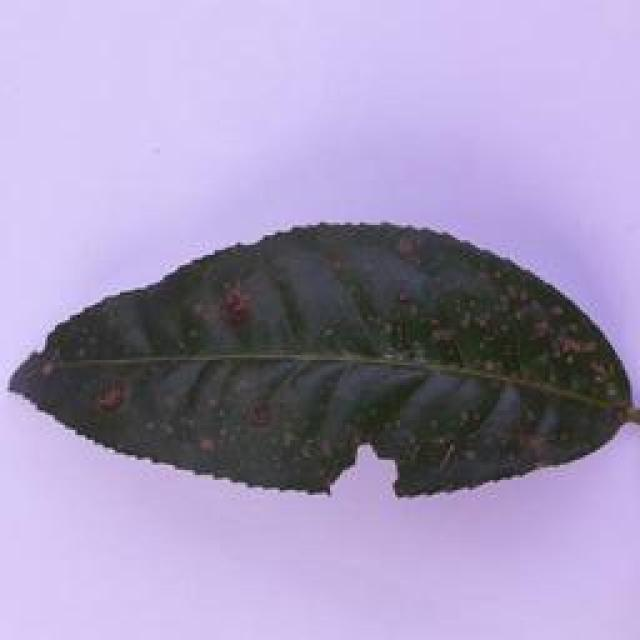Algal Leaf Spot: (14, 220, 628, 501)
